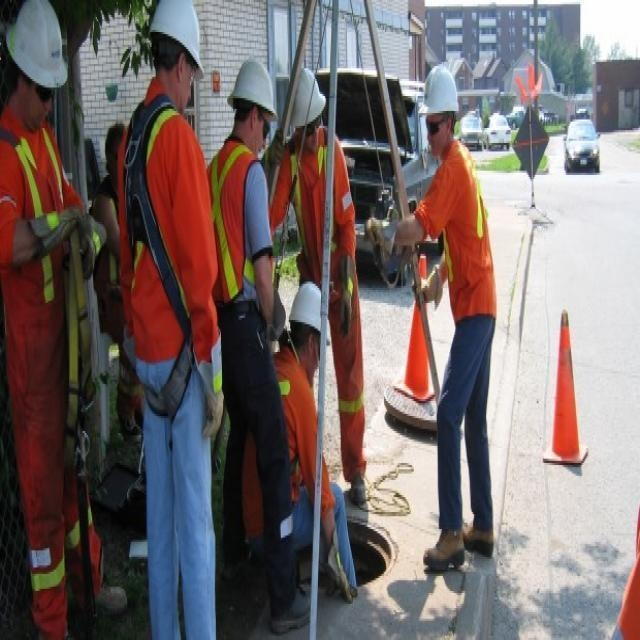Arnes_seguridad: (115, 92, 203, 426)
